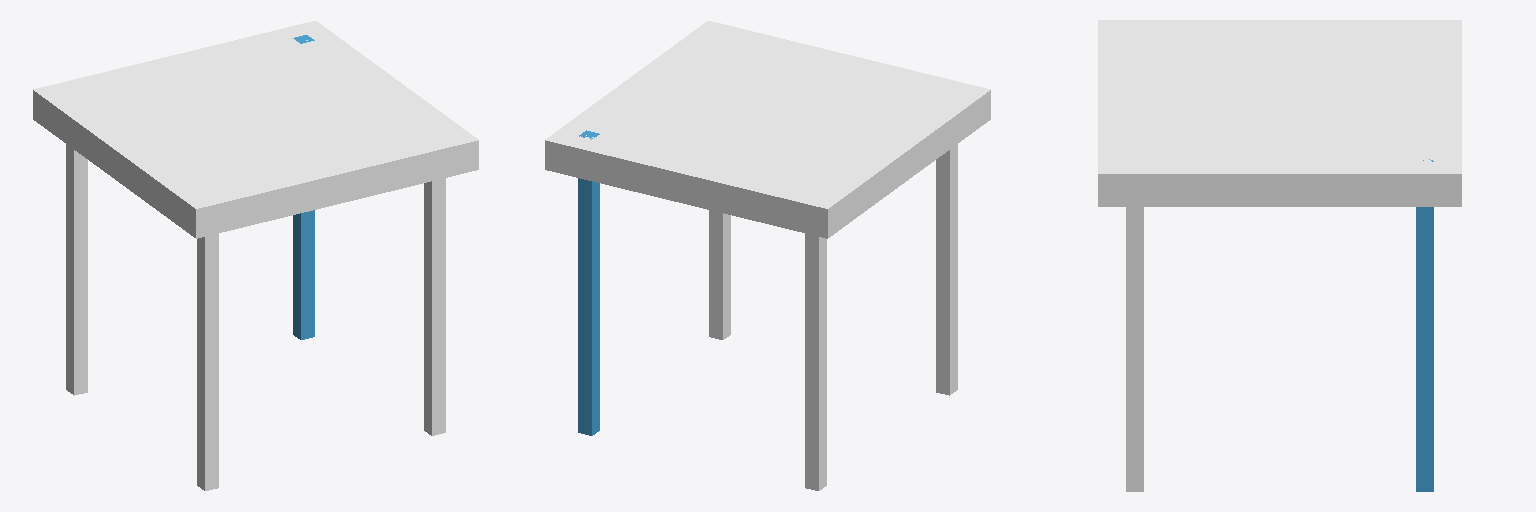
robot.urdf — urdf_table:
<?xml version="0.0" ?>
<robot name="urdf_table">

 <link name="world"/>
  <joint name="fixed" type="fixed">
    <parent link="world"/>
    <child link="baseLink"/>
    <origin xyz="0 0 0"/>
  </joint>

  <link name="baseLink">
    <inertial>
      <origin rpy="0 0 0" xyz="0 0 0.6"/>
       <mass value="0"/>
       <inertia ixx="0.1" ixy="0" ixz="0" iyy="0.1" iyz="0" izz="0.1"/>
    </inertial>

    <visual>
      <origin rpy="0 0 0" xyz="0 0 0.95"/>
      <geometry>
        <box size="1 1 0.1"/>
      </geometry>
	   <material name="framemat0">
      <color rgba="1 1 1 1" />
      </material>
    </visual>


    <visual>
      <origin rpy="0 0 0" xyz="-0.4 -0.4 0.5"/>
      <geometry>
        <box size="0.05 0.05 1"/>
      </geometry>
	  <material name="framemat0"/>	 
    </visual>


    <visual>
      <origin rpy="0 0 0" xyz="-0.4 0.4 0.5"/>
      <geometry>
        <box size="0.05 0.05 1"/>
      </geometry>
	  <material name="framemat0"/>
	  </visual>


    <visual>
      <origin rpy="0 0 0" xyz="0.4 -0.4 0.5"/>
      <geometry>
        <box size="0.05 0.05 1"/>
      </geometry>
	  <material name="framemat0"/>
	  </visual>


    <visual>
      <origin rpy="0 0 0" xyz="0.4 0.4 0.5"/>
      <geometry>
        <box size="0.05 0.05 1"/>
      </geometry>
    </visual>


    <collision>
      <origin rpy="0 0 0" xyz="0 0 0.3"/>
      <geometry>
      <box size="0.5 0.5 0.6"/>
      </geometry>
    </collision>    
  </link>
</robot>

--- What the picture shows (computed from the rendered views, not written in the file) ---
The picture shows the robot from 3 angles, left to right: view 1: azimuth 30°, elevation 25°; view 2: azimuth 150°, elevation 25°; view 3: azimuth 270°, elevation 25°; orthographic projection.
Robot: urdf_table — 2 links, 1 joints (1 fixed); root link world; default pose: all joints at 0.
Visible links, largest first — view 1: baseLink; view 2: baseLink; view 3: baseLink.
Link boxes in pixels (x1,y1,x2,y2): baseLink: (33, 21, 478, 490); baseLink: (545, 21, 990, 490); baseLink: (1098, 20, 1461, 491).
Bounding box of the posed robot: 1 × 1 × 1 m (x, y, z).
Geometry: primitives only (box / cylinder / sphere), no mesh files.